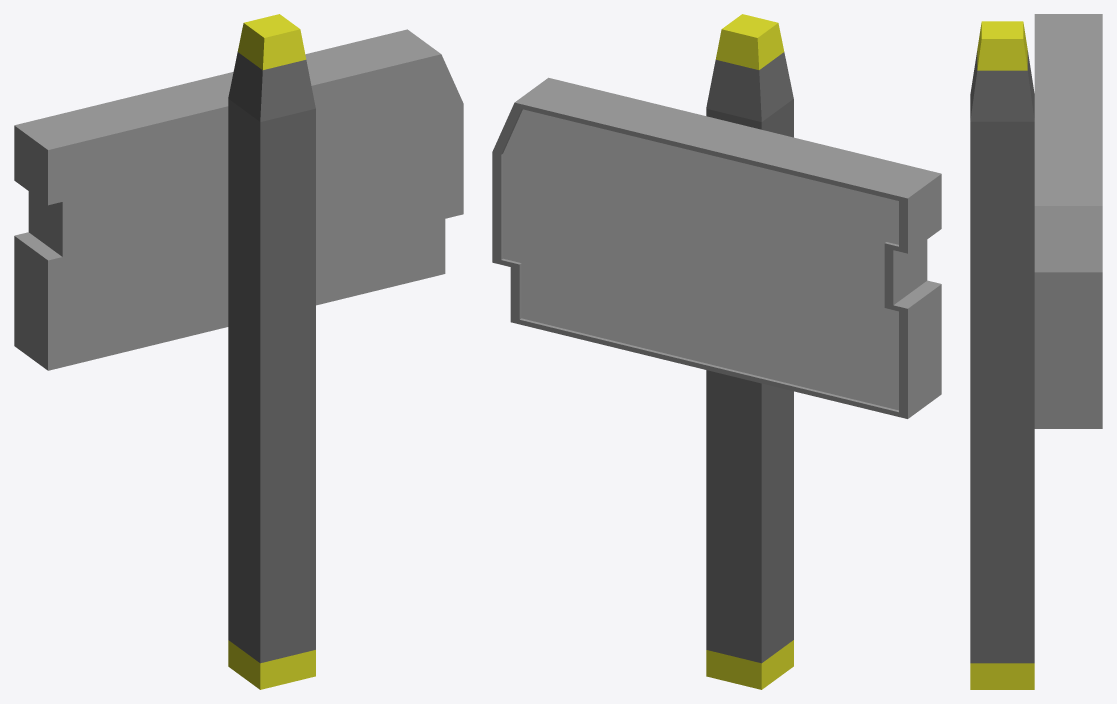
File: ItemSign.fbx
3 renders of one model, left to right at view 1: azimuth 30°, elevation 25°; view 2: azimuth 150°, elevation 25°; view 3: azimuth 270°, elevation 25°, orthographic.
Visible parts, largest first — view 1: Cube; view 2: Cube; view 3: Cube.
Boxes of the visible parts, x1,y1,x2,y2 form: Cube: (14,14,463,689); Cube: (492,14,941,689); Cube: (970,14,1102,689).
Bounding box in the file's own units: 186 × 276 × 51.22.
